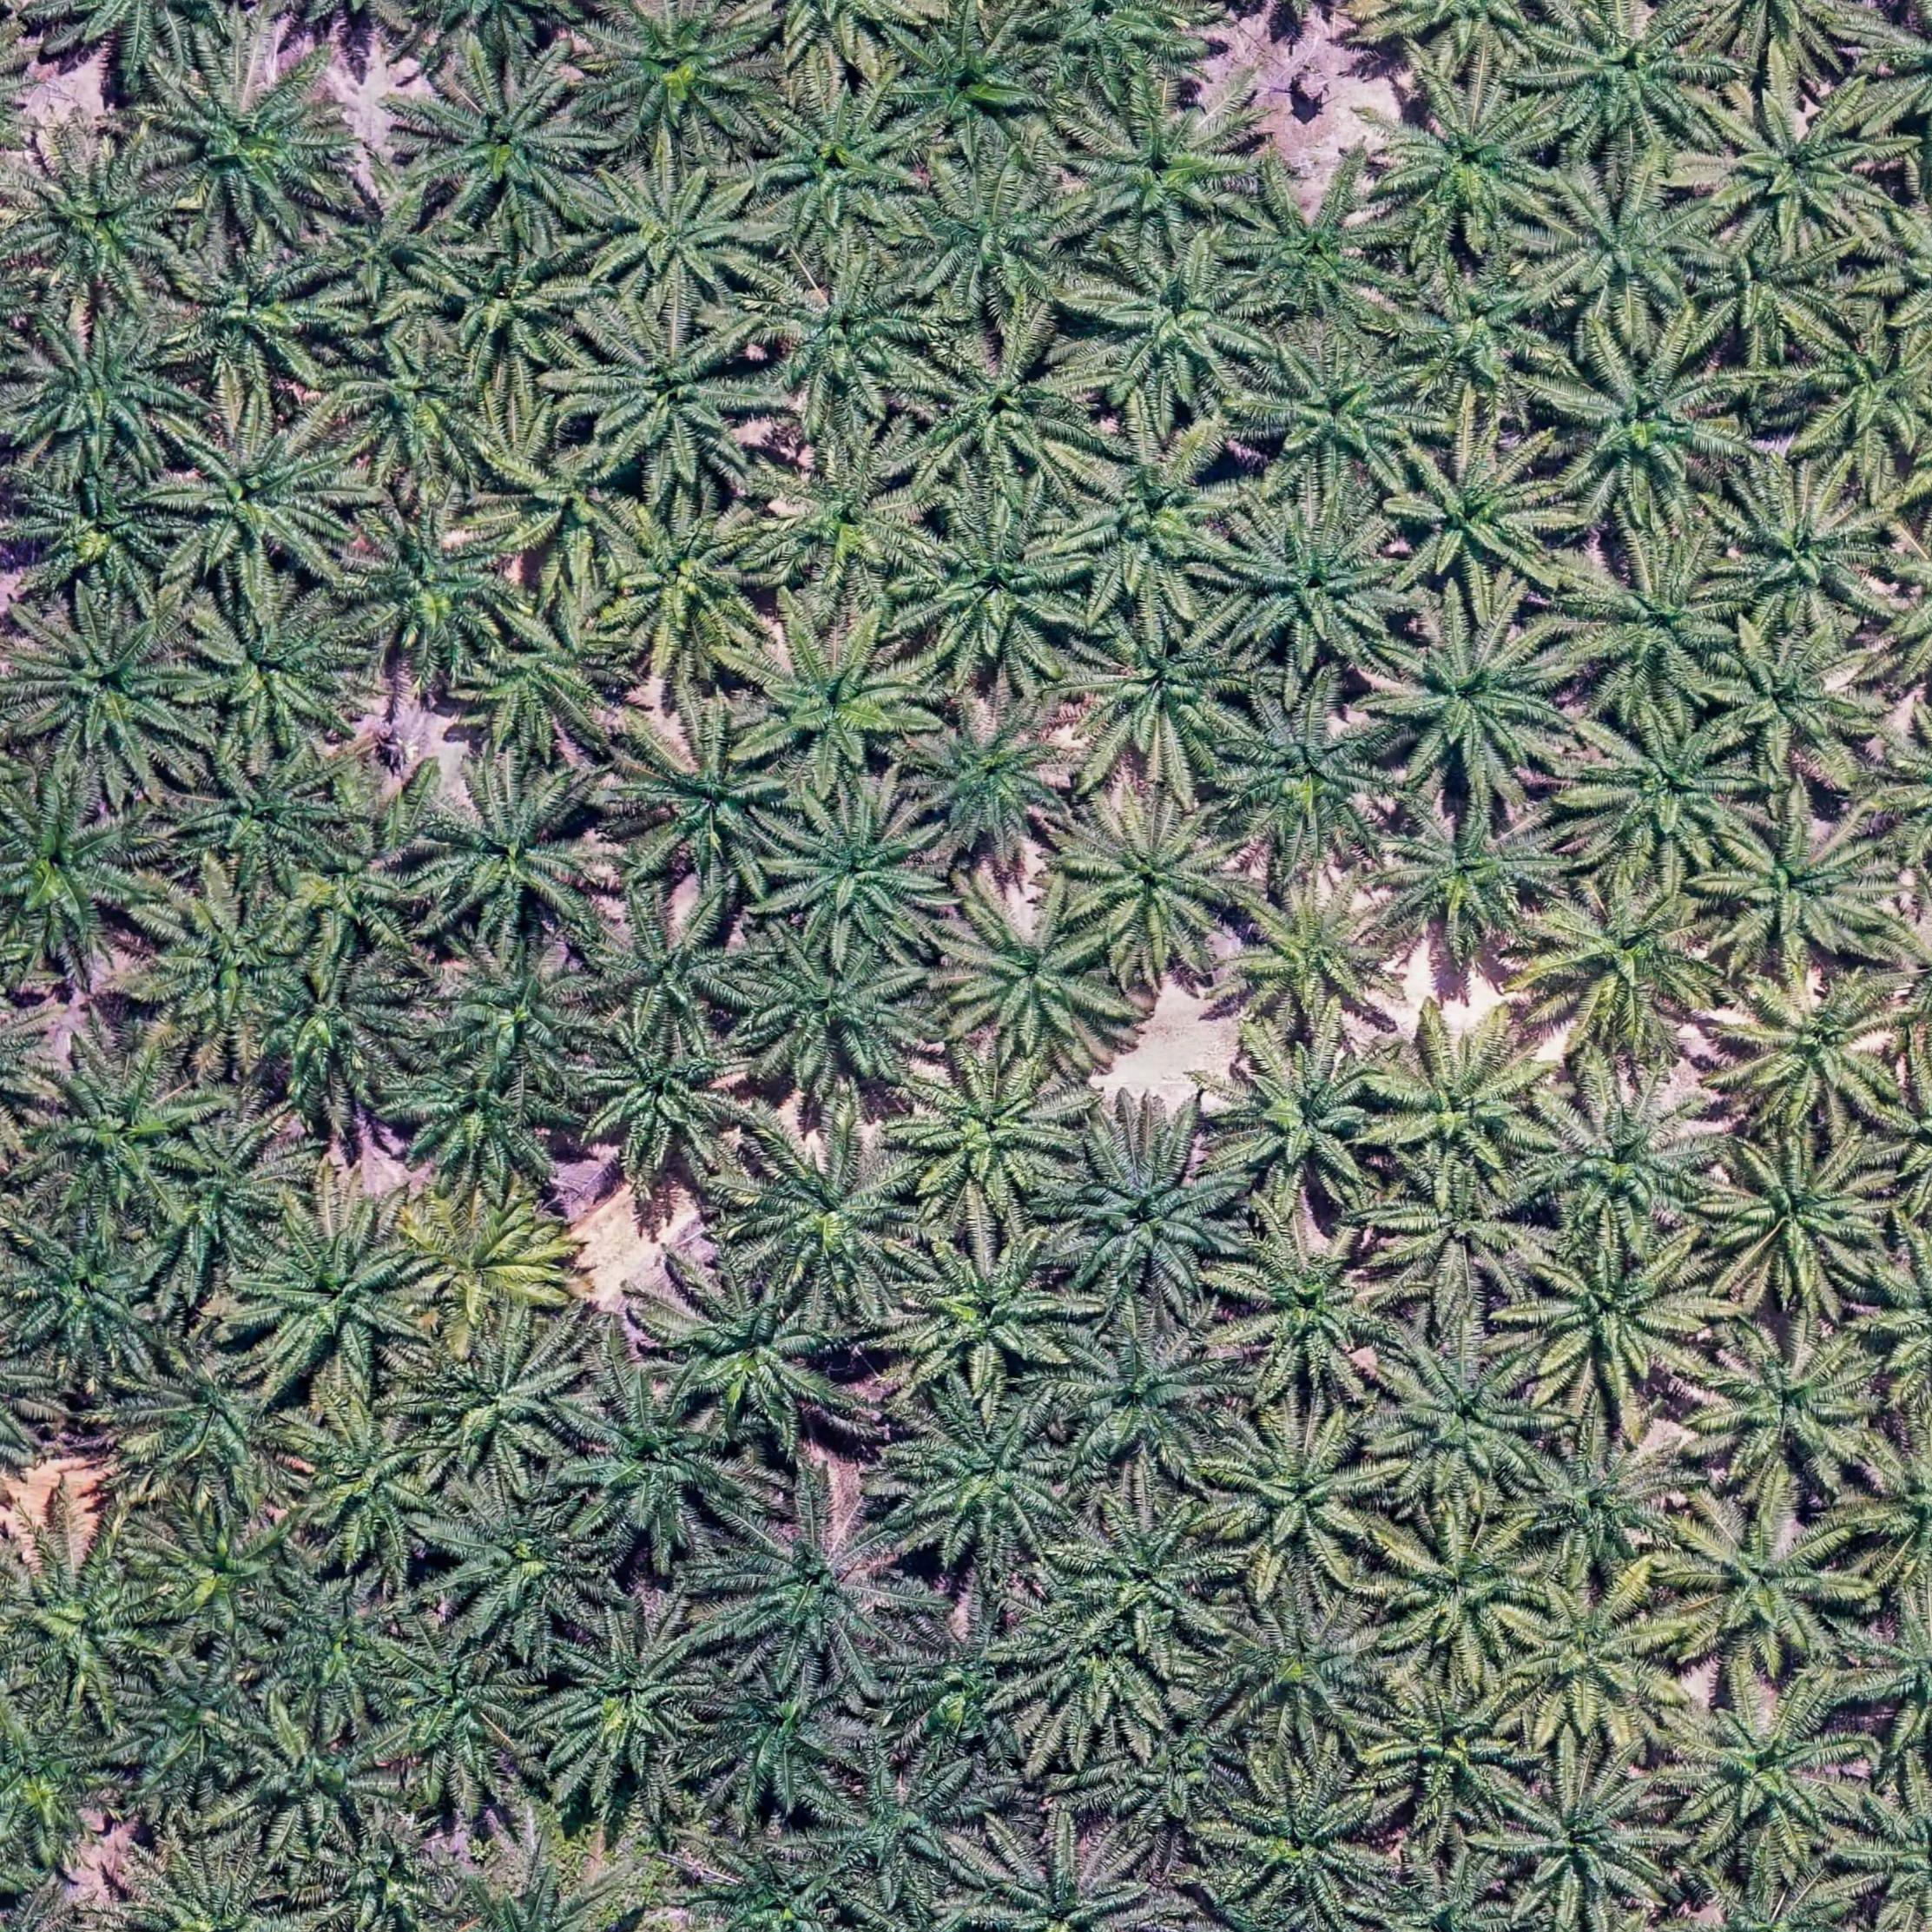palmtree: (1502, 1215, 1721, 1415), (1518, 865, 1734, 1065), (1207, 667, 1407, 879), (1368, 607, 1582, 801), (1663, 1670, 1874, 1863), (1536, 324, 1737, 522), (1683, 1313, 1893, 1502), (1663, 1490, 1877, 1674), (235, 1194, 433, 1389), (152, 403, 352, 594), (147, 51, 345, 239), (936, 876, 1129, 1067), (1520, 1070, 1727, 1246), (717, 1493, 915, 1675), (1698, 1125, 1898, 1306), (1366, 1010, 1564, 1191), (12, 594, 203, 780), (1714, 961, 1909, 1143), (1698, 83, 1898, 260), (731, 918, 936, 1090), (1369, 1322, 1559, 1507), (533, 1605, 724, 1789), (1054, 1120, 1249, 1300), (1205, 1026, 1399, 1207), (416, 764, 614, 941), (1214, 867, 1407, 1047), (1568, 695, 1762, 874), (1373, 787, 1569, 964), (616, 706, 803, 890), (734, 1118, 925, 1299), (1215, 1212, 1401, 1396), (451, 580, 639, 763), (571, 310, 764, 487), (1063, 789, 1251, 970), (1203, 1405, 1394, 1582), (1212, 492, 1407, 665), (559, 1373, 745, 1553), (897, 495, 1086, 672), (27, 1046, 216, 1223), (1079, 235, 1270, 410), (1497, 1564, 1683, 1743), (655, 1270, 847, 1442), (1704, 798, 1893, 971), (1069, 598, 1258, 771), (1490, 1752, 1681, 1923), (416, 60, 603, 234), (334, 492, 522, 665), (182, 582, 370, 755), (0, 770, 161, 970), (11, 310, 200, 479), (594, 488, 775, 665), (906, 327, 1097, 494), (1062, 430, 1244, 603), (1368, 1502, 1553, 1672), (989, 1587, 1164, 1766), (748, 617, 931, 789), (764, 784, 948, 954), (570, 1008, 754, 1178), (890, 1396, 1077, 1562), (419, 936, 609, 1100), (1389, 426, 1571, 596), (1557, 536, 1741, 702), (1362, 1658, 1539, 1829), (890, 1223, 1076, 1385), (1516, 1414, 1693, 1583), (12, 138, 191, 306), (134, 878, 315, 1044), (754, 249, 936, 414), (421, 1474, 616, 1628), (897, 1042, 1081, 1205), (1376, 80, 1560, 242), (1714, 467, 1895, 632), (161, 234, 343, 396), (902, 694, 1081, 858), (1058, 1495, 1237, 1660), (1702, 617, 1882, 780), (1532, 161, 1718, 318), (577, 154, 764, 306), (754, 433, 931, 594), (1212, 1596, 1392, 1753), (901, 163, 1081, 320), (577, 885, 752, 1044), (582, 0, 770, 149), (1783, 310, 1932, 497), (1254, 336, 1431, 494), (1058, 1316, 1235, 1474), (1368, 1166, 1545, 1323), (283, 1399, 449, 1566), (398, 1046, 584, 1194), (375, 1622, 541, 1787), (126, 1329, 295, 1490), (757, 80, 931, 237), (416, 1315, 591, 1470), (1076, 97, 1254, 249), (242, 950, 416, 1106), (1224, 168, 1396, 324), (333, 327, 497, 487), (1212, 1762, 1387, 1911), (7, 1537, 168, 1698), (1387, 249, 1537, 421), (175, 741, 350, 888), (1536, 5, 1713, 150), (131, 1649, 288, 1812), (16, 458, 189, 605), (692, 1661, 860, 1812), (9, 1212, 168, 1368), (253, 1576, 437, 1711), (235, 1707, 402, 1856), (395, 1196, 589, 1320), (140, 1500, 303, 1647), (444, 212, 594, 370), (817, 1750, 985, 1888), (892, 12, 1049, 159), (966, 1822, 1169, 1932), (878, 1624, 1035, 1764), (1691, 226, 1847, 363), (311, 177, 465, 310), (0, 1702, 120, 1867), (1085, 1709, 1240, 1835)
